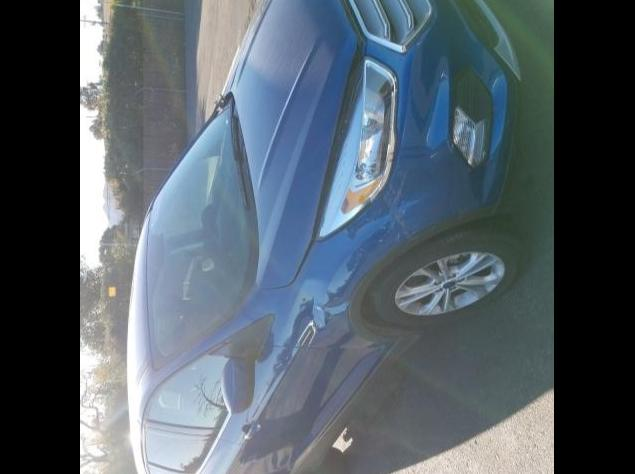Broken part: (308, 0, 366, 244)
Dent: (342, 170, 426, 251), (288, 276, 356, 336)
Scratch: (380, 184, 410, 238)
